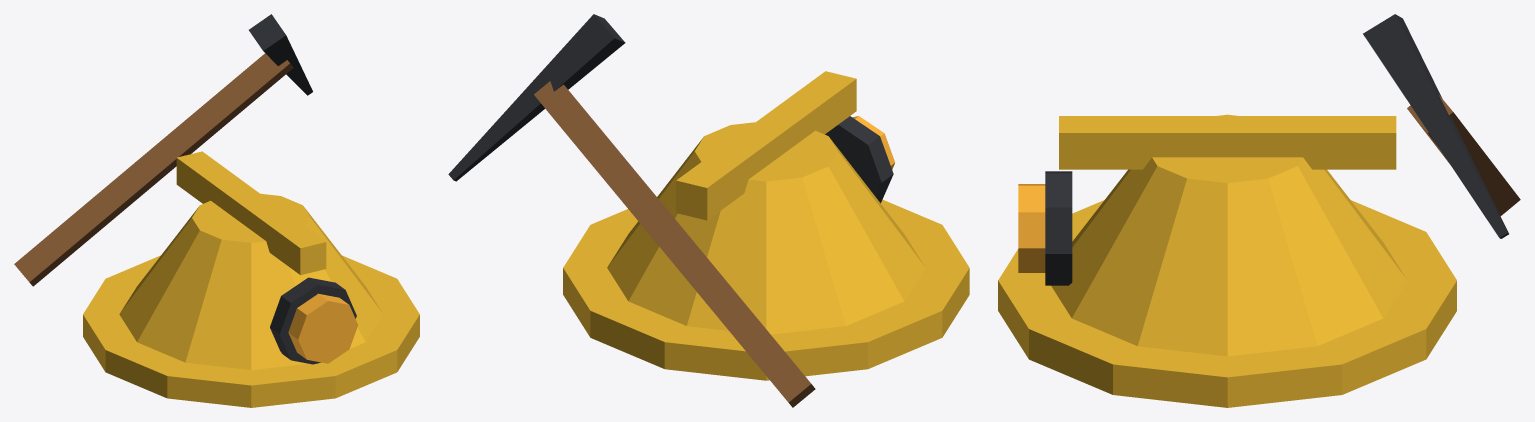
File: MinerHat.obj
The picture shows the model from 3 angles, left to right: view 1: azimuth 30°, elevation 25°; view 2: azimuth 150°, elevation 25°; view 3: azimuth 270°, elevation 25°; orthographic projection. The views are drawn at different scales.
Parts seen in each view (by area): view 1: MinerHat; view 2: MinerHat; view 3: MinerHat.
Part boxes in pixels (<box>): MinerHat: <box>14,14,419,407</box>; MinerHat: <box>448,14,969,407</box>; MinerHat: <box>998,14,1520,407</box>.
Size of the model in its own units: 0.7167 by 0.5743 by 0.7744.
